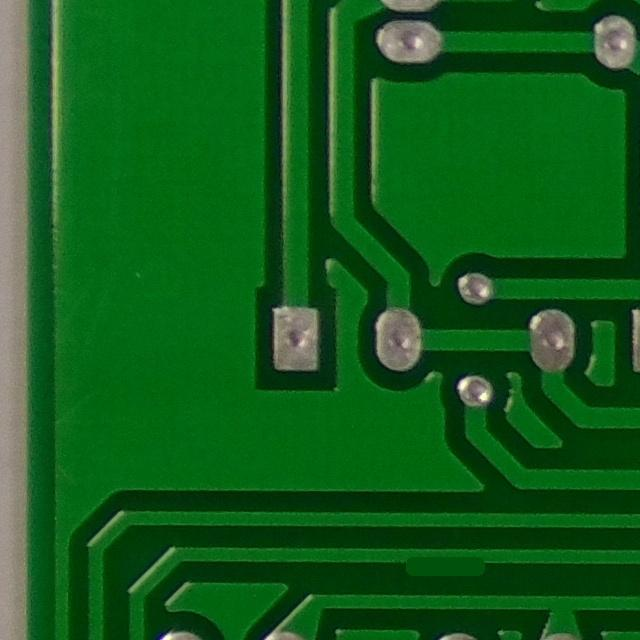spur: (379, 537, 505, 591)
